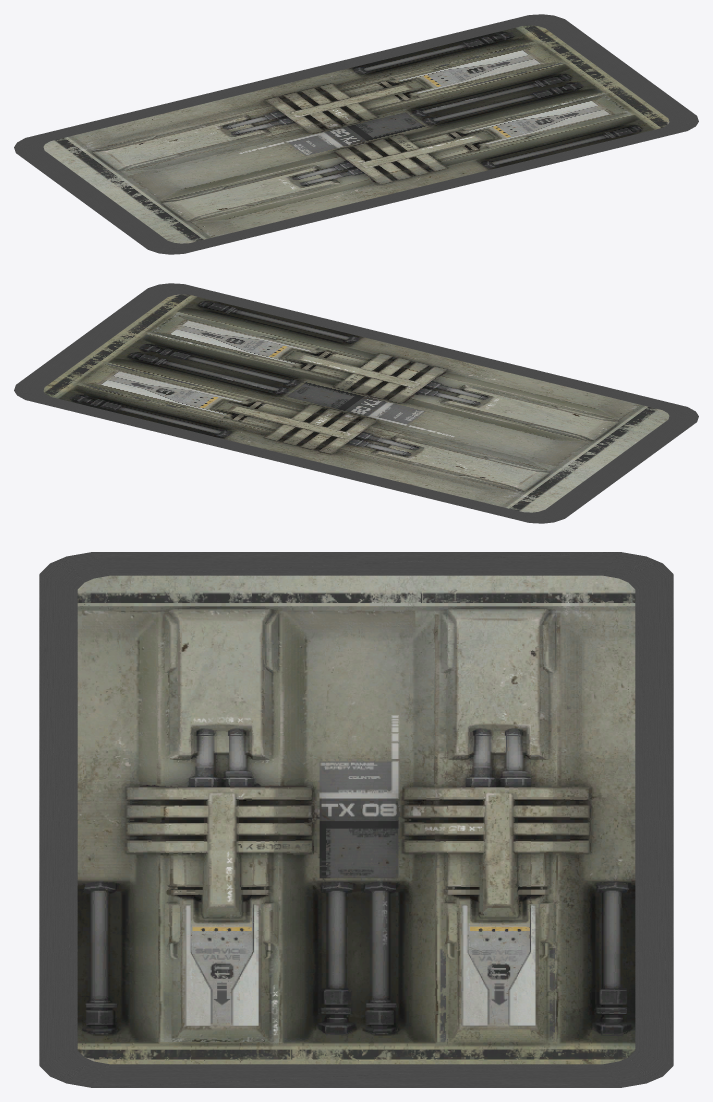
File: TechPlane01.FBX
The picture shows the model from 3 angles, top to bottom: view 1: azimuth 30°, elevation 25°; view 2: azimuth 150°, elevation 25°; view 3: azimuth 270°, elevation 25°; orthographic projection. The views are drawn at different scales.
Parts seen in each view (by area): view 1: TechPlane01; view 2: TechPlane01; view 3: TechPlane01.
Boxes of the visible parts, x1,y1,x2,y2 form: TechPlane01: [14, 14, 698, 254]; TechPlane01: [14, 283, 698, 523]; TechPlane01: [39, 552, 673, 1087].
Size of the model in its own units: 2 by 2.83e-16 by 1.
